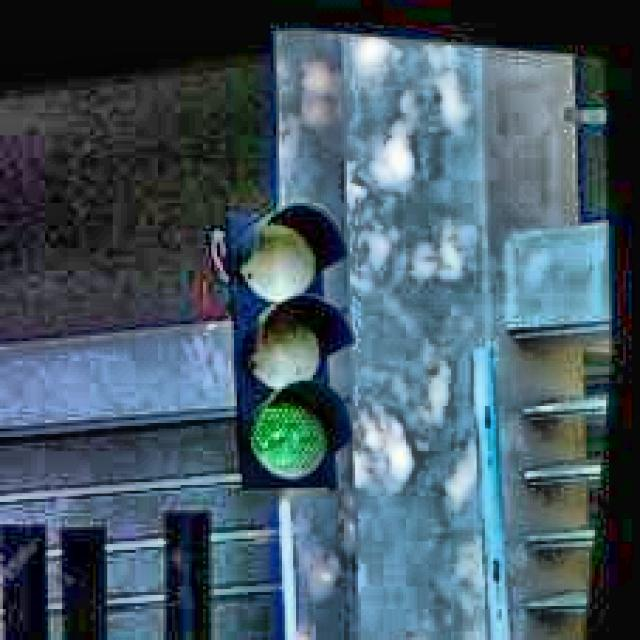green: (208, 189, 378, 488)
